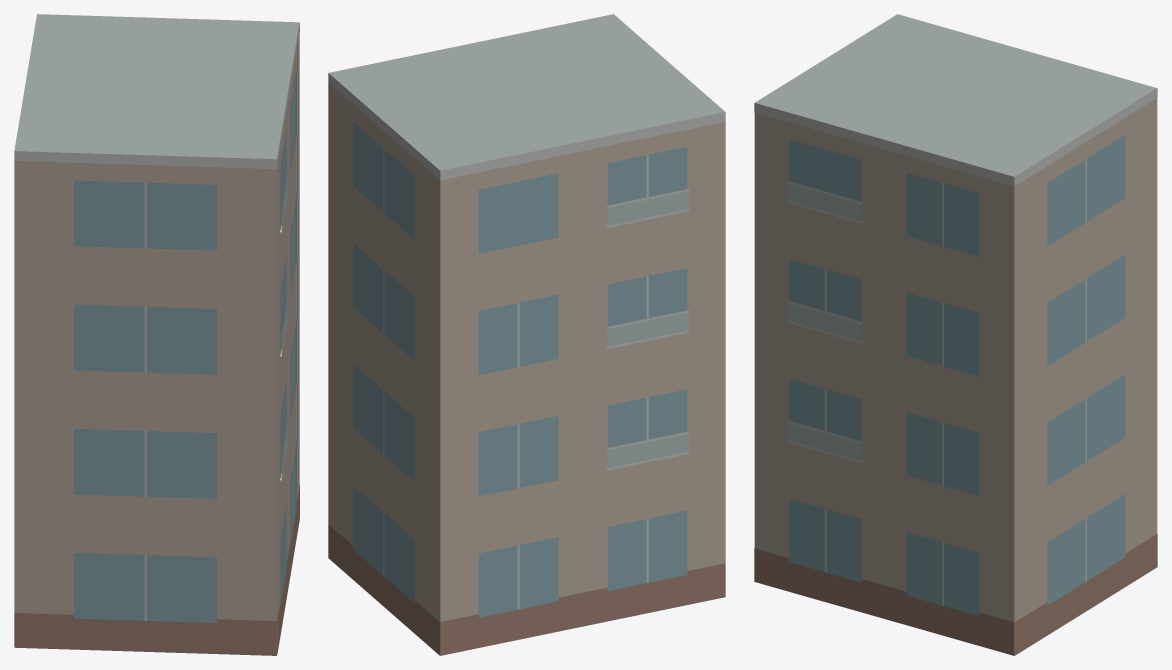
The model's file is survey-upis-32995175.glb.
3 renders of one model, left to right at view 1: azimuth 30°, elevation 25°; view 2: azimuth 150°, elevation 25°; view 3: azimuth 270°, elevation 25°, orthographic. The views are drawn at different scales.
Visible parts, largest first — view 1: survey-upis-32995175.tmp; view 2: survey-upis-32995175.tmp; view 3: survey-upis-32995175.tmp.
Boxes of the visible parts, left/top/right/bottom form: survey-upis-32995175.tmp: left=14, top=14, right=299, bottom=655; survey-upis-32995175.tmp: left=328, top=14, right=725, bottom=655; survey-upis-32995175.tmp: left=754, top=14, right=1157, bottom=655.
Bounding box in the file's own units: 8.9 × 12.2 × 9.31.
